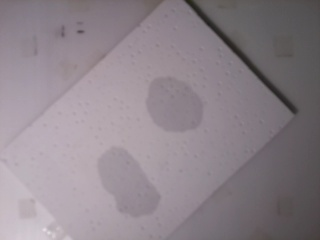Water_detected: (101, 151, 156, 212), (151, 77, 204, 139)
